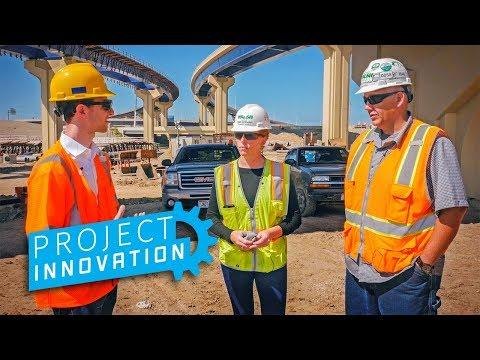helmet: (49, 64, 115, 102), (357, 59, 414, 96), (232, 104, 275, 133)
